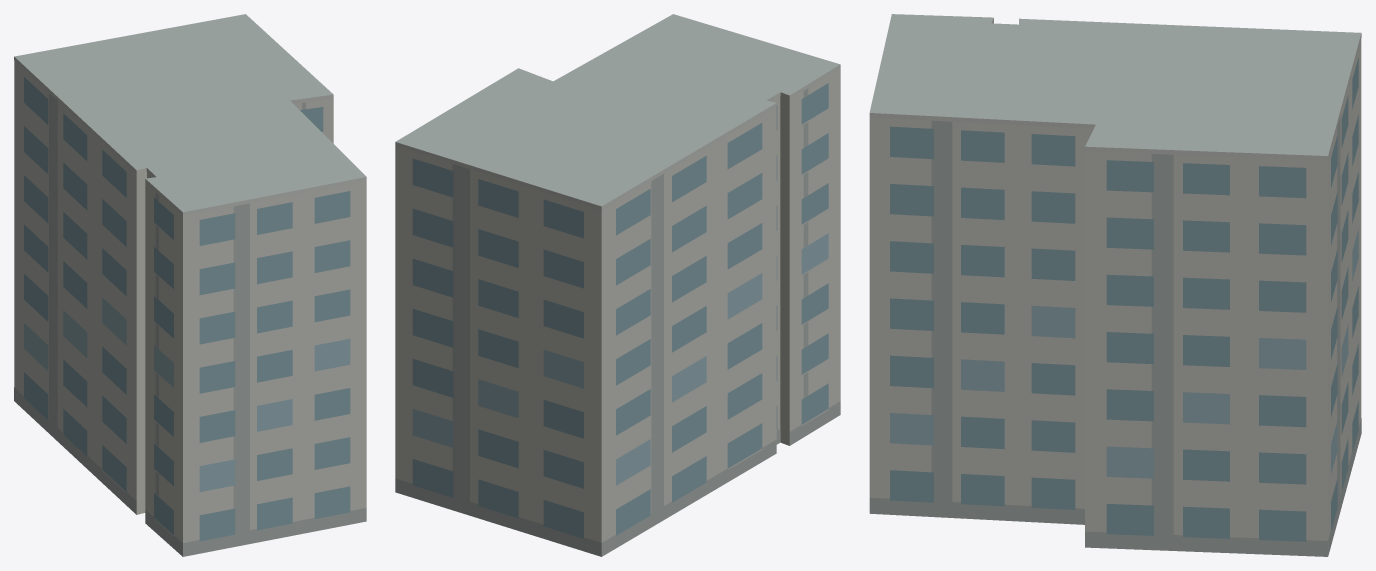
File: survey-upis-32924611.glb
The picture shows the model from 3 angles, left to right: view 1: azimuth 30°, elevation 25°; view 2: azimuth 150°, elevation 25°; view 3: azimuth 270°, elevation 25°; orthographic projection. The views are drawn at different scales.
Parts seen in each view (by area): view 1: survey-upis-32924611.tmp; view 2: survey-upis-32924611.tmp; view 3: survey-upis-32924611.tmp.
Part boxes in pixels (<box>): survey-upis-32924611.tmp: <box>14,14,366,556</box>; survey-upis-32924611.tmp: <box>395,14,840,556</box>; survey-upis-32924611.tmp: <box>869,14,1361,556</box>.
Bounding box in the file's own units: 16.24 × 21.35 × 23.76.
